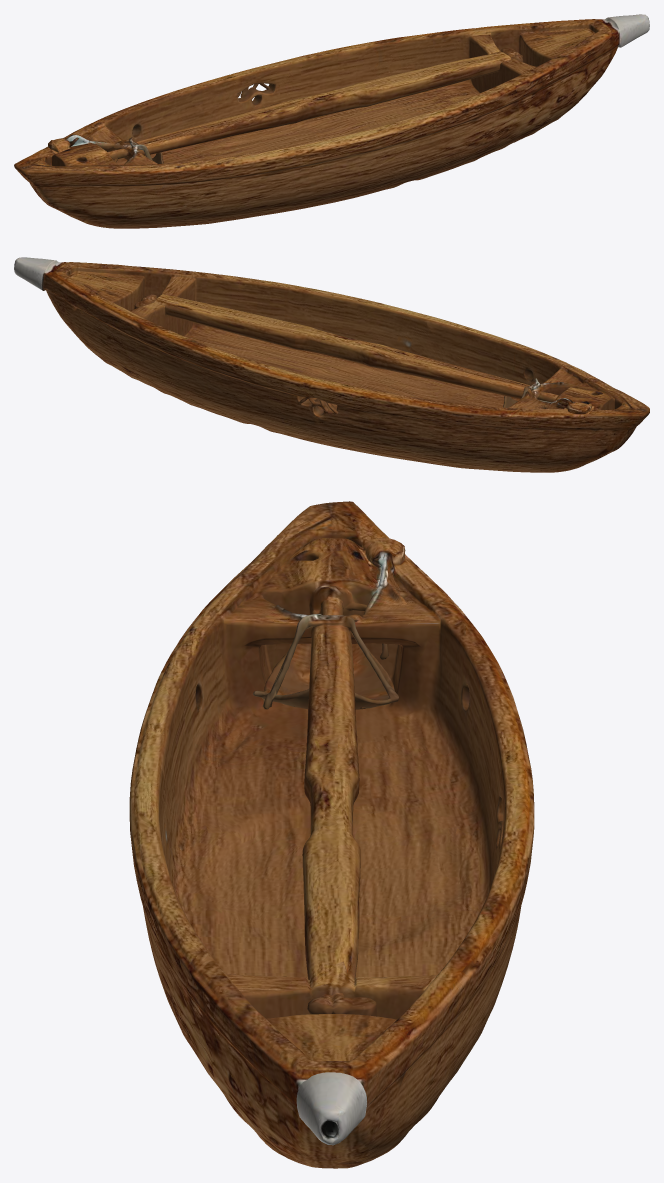
File: weaving-shuttle.glb
3 renders of one model, top to bottom at view 1: azimuth 30°, elevation 25°; view 2: azimuth 150°, elevation 25°; view 3: azimuth 270°, elevation 25°, orthographic. The views are drawn at different scales.
Parts seen in each view (by area): view 1: tripo_node_f008d3d5-8f18-49b0-85cb-1e0cae015780; view 2: tripo_node_f008d3d5-8f18-49b0-85cb-1e0cae015780; view 3: tripo_node_f008d3d5-8f18-49b0-85cb-1e0cae015780.
Boxes of the visible parts, box(x1,y1,x2,y2) form: tripo_node_f008d3d5-8f18-49b0-85cb-1e0cae015780: box(14, 14, 649, 228); tripo_node_f008d3d5-8f18-49b0-85cb-1e0cae015780: box(14, 257, 649, 472); tripo_node_f008d3d5-8f18-49b0-85cb-1e0cae015780: box(129, 501, 534, 1168).
Bounding box in the file's own units: 1 × 0.1519 × 0.2786.
1 material, 1 textured.
